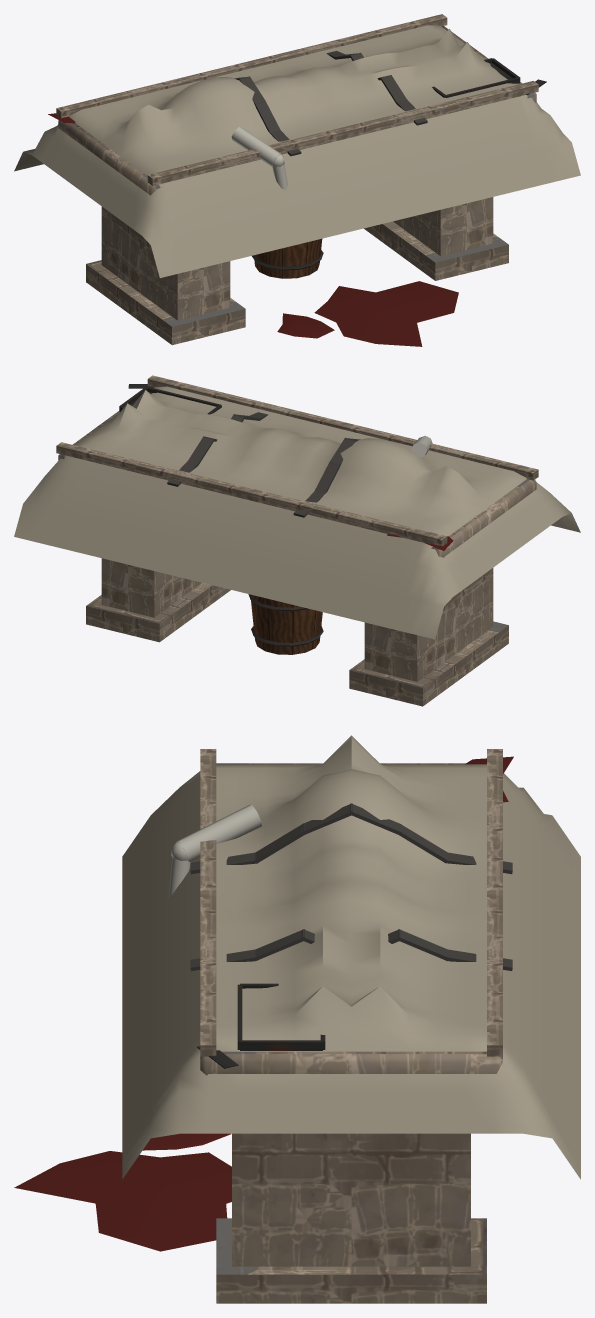
File: slab_table.glb
3 views of the same model, one above another, from view 1: azimuth 30°, elevation 25°; view 2: azimuth 150°, elevation 25°; view 3: azimuth 270°, elevation 25° (orthographic). The views are drawn at different scales.
Visible parts, largest first — view 1: slab_table; view 2: slab_table; view 3: slab_table.
Boxes of the visible parts, box(x1,y1,x2,y2) form: slab_table: box(14, 14, 580, 346); slab_table: box(14, 375, 580, 706); slab_table: box(14, 735, 580, 1303).
Size of the model in its own units: 2.4 by 1.14 by 1.78.
Materials: 8 (5 with a texture image).
